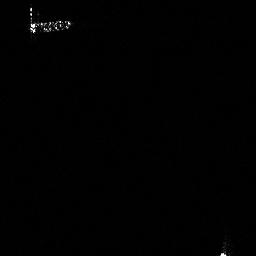ship: (27, 6, 72, 37)
